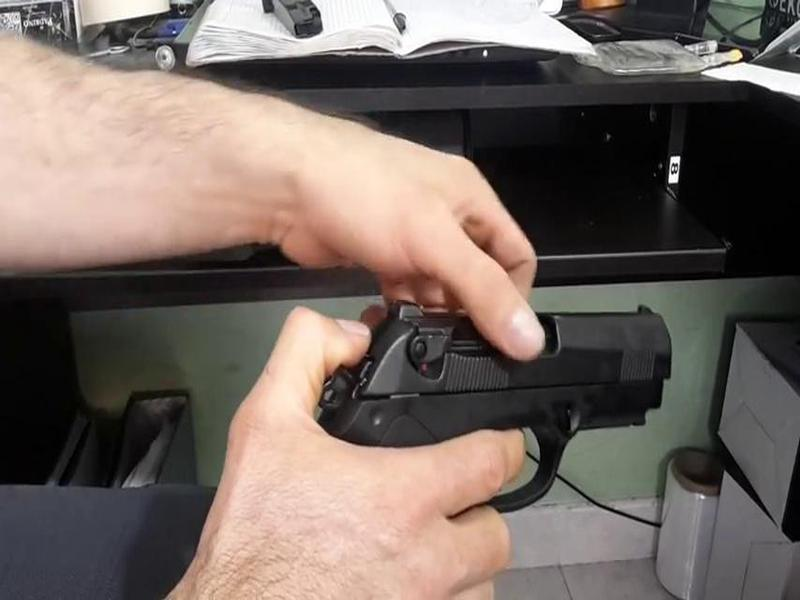Pistola: (287, 266, 684, 511)
